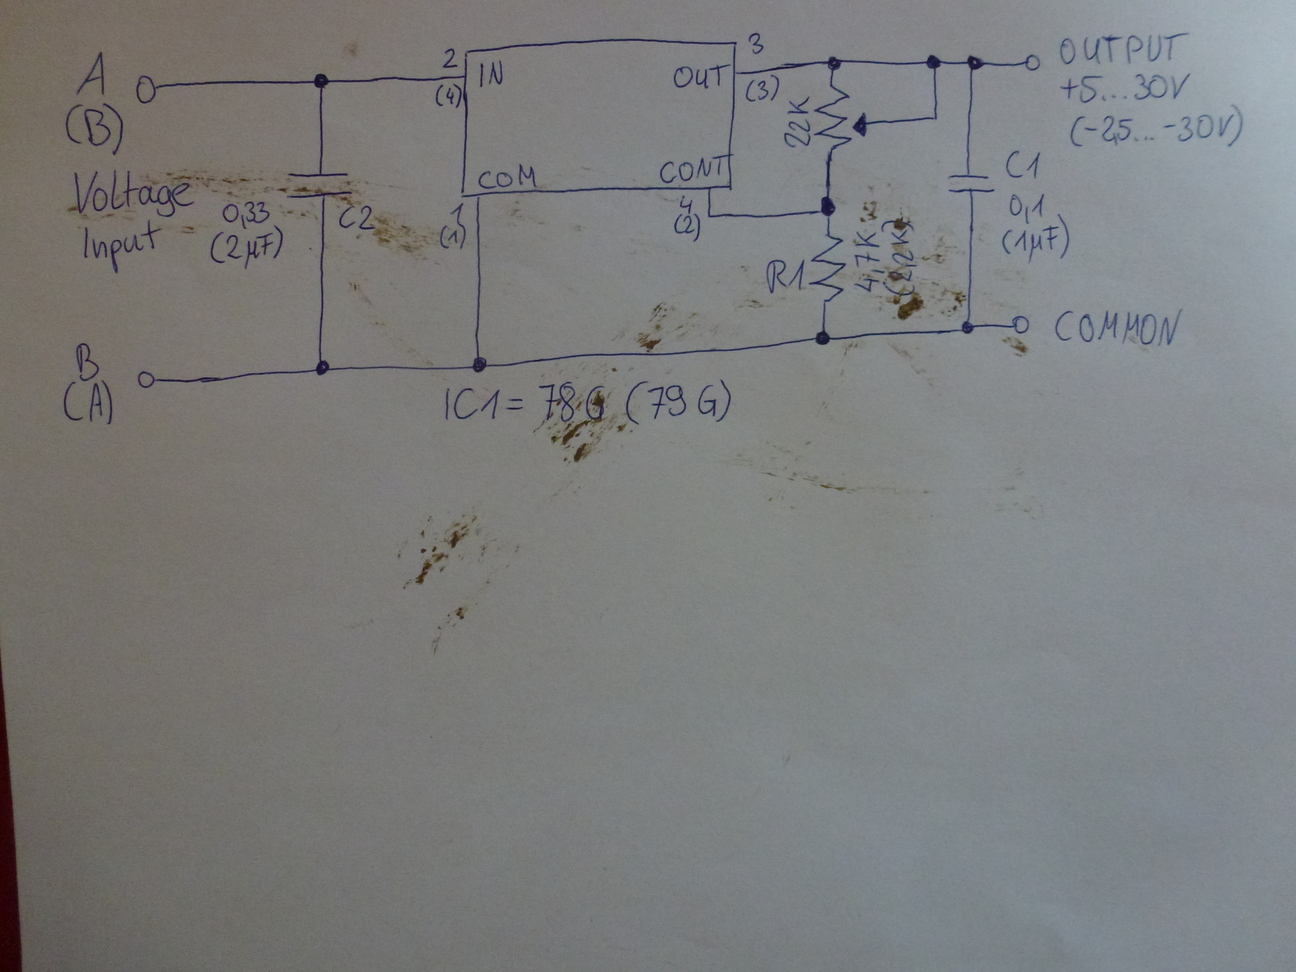capacitor.unpolarized: (281, 168, 355, 202), (945, 171, 993, 196)
integrated_circuit: (457, 33, 742, 200)
junction: (815, 194, 842, 218), (812, 326, 832, 348), (310, 70, 331, 91), (958, 315, 977, 337), (964, 53, 984, 72), (469, 354, 488, 375), (312, 357, 331, 377), (925, 52, 943, 71), (824, 53, 842, 72), (929, 110, 941, 123), (703, 210, 715, 222)
resistor: (806, 232, 849, 305)
resistor.adjustable: (812, 83, 870, 156)
terminal: (129, 69, 160, 106), (1015, 50, 1048, 75), (134, 366, 158, 392), (1009, 310, 1033, 338)
text: (442, 377, 734, 427), (1049, 110, 1255, 150), (71, 164, 198, 218), (1055, 28, 1192, 69), (1048, 308, 1184, 350), (80, 216, 163, 277), (1060, 71, 1200, 105), (208, 223, 288, 270), (62, 100, 126, 157), (999, 214, 1073, 263), (881, 216, 920, 296), (60, 380, 118, 428), (851, 218, 884, 297), (71, 47, 114, 99), (659, 154, 729, 185), (761, 255, 808, 296), (672, 58, 734, 89), (335, 200, 383, 238), (220, 198, 275, 230), (785, 92, 813, 151), (479, 164, 538, 190), (70, 338, 103, 382), (1002, 147, 1042, 180), (1006, 193, 1048, 223), (744, 72, 783, 103), (473, 59, 506, 89), (438, 220, 468, 250), (672, 207, 699, 240), (434, 81, 462, 108), (439, 44, 460, 71), (746, 30, 765, 54), (448, 200, 467, 224), (677, 196, 694, 210)
